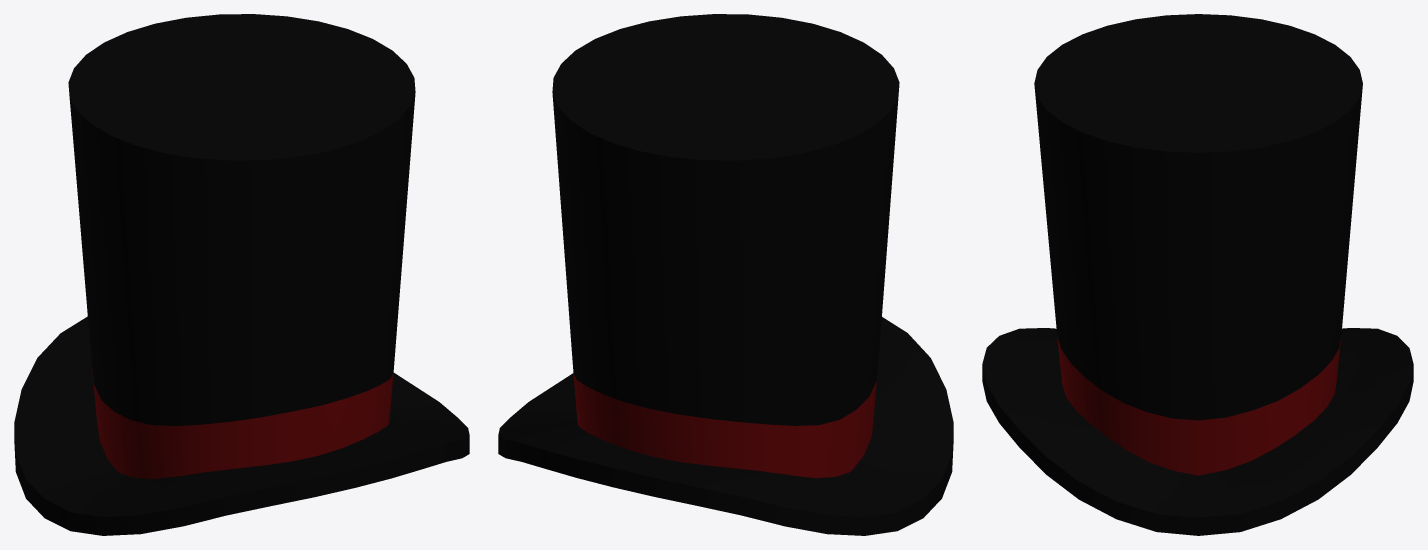
The model's file is SihirbazSapka.fbx.
3 renders of one model, left to right at view 1: azimuth 30°, elevation 25°; view 2: azimuth 150°, elevation 25°; view 3: azimuth 270°, elevation 25°, orthographic. The views are drawn at different scales.
Parts seen in each view (by area): view 1: SihirbazSapkasi; view 2: SihirbazSapkasi; view 3: SihirbazSapkasi.
Boxes of the visible parts, bbox=[...] form: SihirbazSapkasi: bbox=[14, 14, 469, 535]; SihirbazSapkasi: bbox=[498, 14, 953, 535]; SihirbazSapkasi: bbox=[982, 14, 1413, 535].
Bounding box in the file's own units: 218 × 202 × 218.
